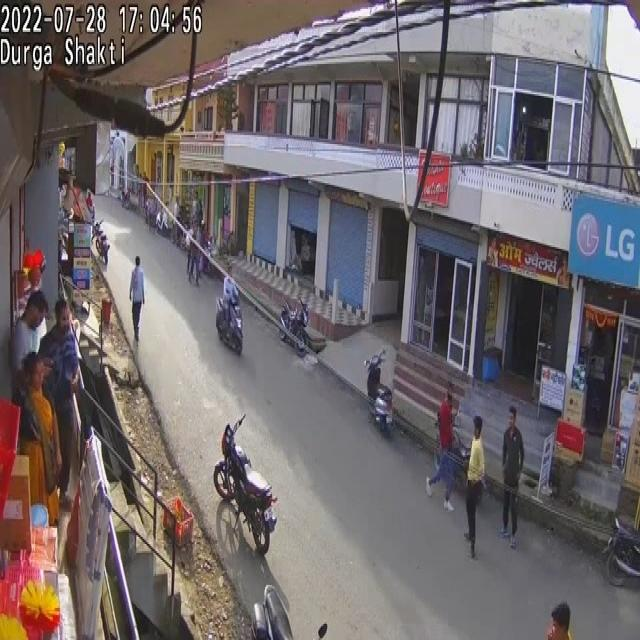non-fight: (40, 300, 83, 504), (17, 354, 61, 528), (11, 290, 46, 398), (426, 387, 458, 505), (500, 407, 524, 549), (463, 416, 486, 558), (129, 256, 145, 340), (221, 272, 240, 326), (186, 224, 201, 284), (467, 435, 485, 484), (189, 190, 203, 228)
